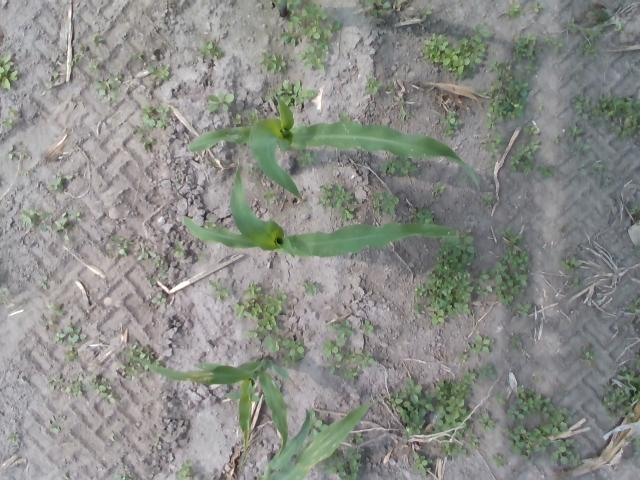Maize: (188, 92, 480, 208), (182, 166, 458, 258), (116, 347, 292, 457), (255, 395, 385, 480), (270, 0, 290, 15)
Weeds: (426, 227, 474, 324), (280, 0, 342, 71), (422, 25, 494, 79), (476, 247, 532, 306), (485, 59, 531, 128), (432, 370, 477, 440), (232, 282, 287, 338), (388, 377, 434, 439), (591, 92, 640, 141), (599, 367, 640, 420), (502, 424, 551, 461), (505, 386, 555, 422), (316, 445, 366, 480), (266, 80, 319, 112), (318, 183, 356, 220), (120, 342, 154, 377), (509, 140, 541, 174), (379, 152, 419, 178), (541, 406, 573, 437), (138, 102, 171, 131), (550, 438, 582, 466), (88, 374, 115, 406), (341, 346, 378, 369), (20, 205, 50, 233), (510, 32, 538, 61), (54, 210, 80, 241), (51, 320, 86, 343), (94, 74, 120, 104), (568, 21, 604, 42), (372, 188, 399, 216), (0, 52, 18, 90), (466, 332, 494, 356), (282, 338, 306, 366), (328, 320, 353, 346), (260, 50, 287, 74), (440, 110, 463, 137), (483, 132, 506, 158), (47, 171, 73, 193), (410, 451, 432, 477), (570, 92, 591, 119), (207, 91, 234, 112), (439, 440, 468, 458), (308, 410, 328, 436), (592, 162, 612, 188), (362, 0, 390, 18), (208, 276, 229, 300), (538, 35, 564, 54), (64, 374, 84, 398), (198, 40, 223, 59), (410, 206, 436, 224), (0, 106, 19, 130), (498, 226, 522, 244), (560, 255, 582, 274), (476, 362, 498, 381), (566, 140, 590, 157), (476, 412, 496, 432), (175, 460, 195, 480), (323, 340, 342, 361), (363, 73, 382, 94), (110, 234, 128, 256), (575, 40, 596, 58), (148, 64, 170, 81), (300, 278, 320, 296), (297, 148, 316, 166), (262, 335, 282, 352), (512, 301, 532, 318), (46, 372, 64, 390), (588, 8, 608, 24), (153, 258, 168, 279), (508, 0, 524, 19), (564, 122, 584, 137), (580, 346, 598, 362), (246, 110, 264, 126), (398, 98, 411, 120), (69, 44, 82, 66), (538, 164, 558, 178), (358, 319, 374, 336), (478, 191, 494, 208), (262, 188, 279, 204), (44, 301, 62, 316), (489, 454, 508, 468), (43, 71, 58, 88), (6, 144, 20, 162), (65, 344, 79, 362), (491, 390, 506, 406), (522, 123, 540, 136), (412, 282, 426, 298), (509, 334, 523, 349), (432, 182, 447, 196), (172, 241, 185, 257), (326, 362, 342, 375), (346, 432, 363, 444), (150, 294, 167, 306), (627, 297, 640, 312), (202, 217, 218, 229), (419, 6, 432, 20), (526, 64, 540, 77), (138, 249, 154, 260), (344, 369, 357, 382), (468, 438, 480, 451), (232, 112, 244, 125), (130, 52, 144, 63), (629, 204, 640, 218), (385, 82, 396, 96), (6, 432, 20, 443), (338, 111, 352, 122), (393, 0, 412, 8), (412, 303, 424, 315), (570, 276, 580, 290), (112, 473, 132, 480), (458, 352, 469, 364), (248, 162, 259, 174), (532, 0, 542, 13), (632, 434, 640, 450), (143, 138, 154, 149), (91, 32, 102, 43), (36, 278, 48, 288), (476, 88, 488, 97), (456, 175, 468, 184), (616, 19, 624, 32), (148, 277, 158, 287), (536, 102, 546, 111), (552, 134, 561, 144), (634, 245, 640, 258), (50, 426, 61, 433), (196, 250, 204, 259), (633, 354, 640, 364), (88, 62, 99, 68), (0, 286, 8, 294)
